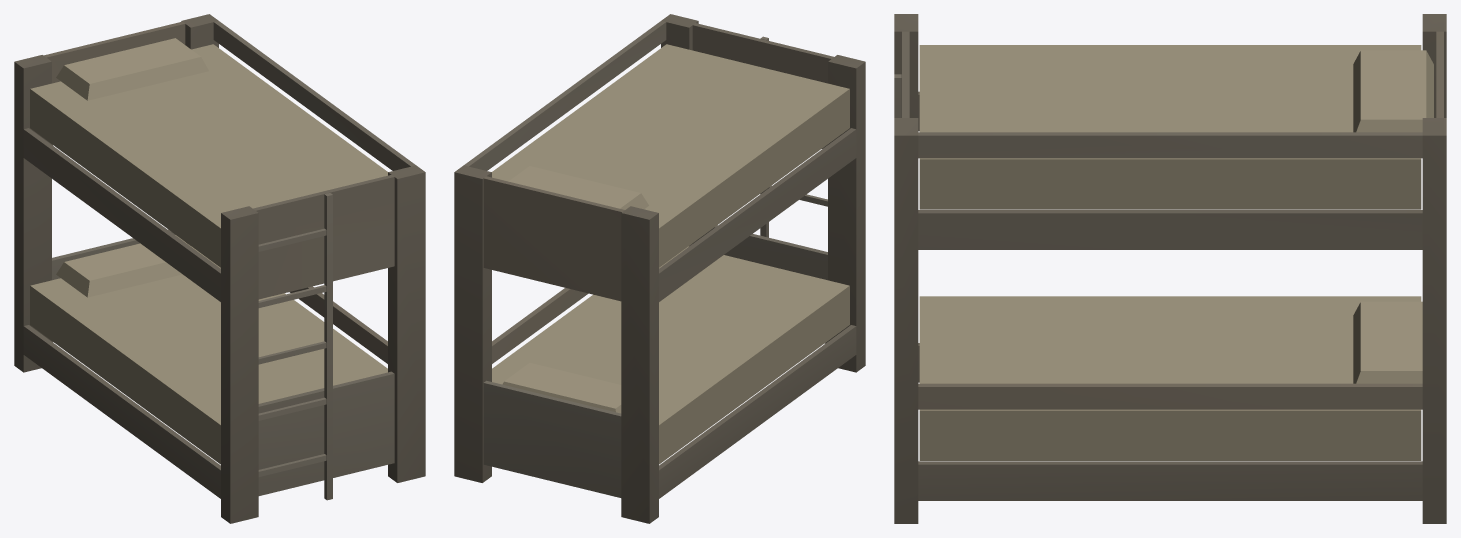
The model's file is bed.bunk.bare.glb.
The picture shows the model from 3 angles, left to right: view 1: azimuth 30°, elevation 25°; view 2: azimuth 150°, elevation 25°; view 3: azimuth 270°, elevation 25°; orthographic projection. The views are drawn at different scales.
Parts seen in each view (by area): view 1: bed_bunk_bare; view 2: bed_bunk_bare; view 3: bed_bunk_bare.
Part boxes in pixels (x1,y1,x2,y2): bed_bunk_bare: [14, 14, 425, 523]; bed_bunk_bare: [454, 14, 865, 523]; bed_bunk_bare: [894, 14, 1446, 523].
Size of what is drawn, in the model's own units: 1.14 by 1.7 by 2.19.
